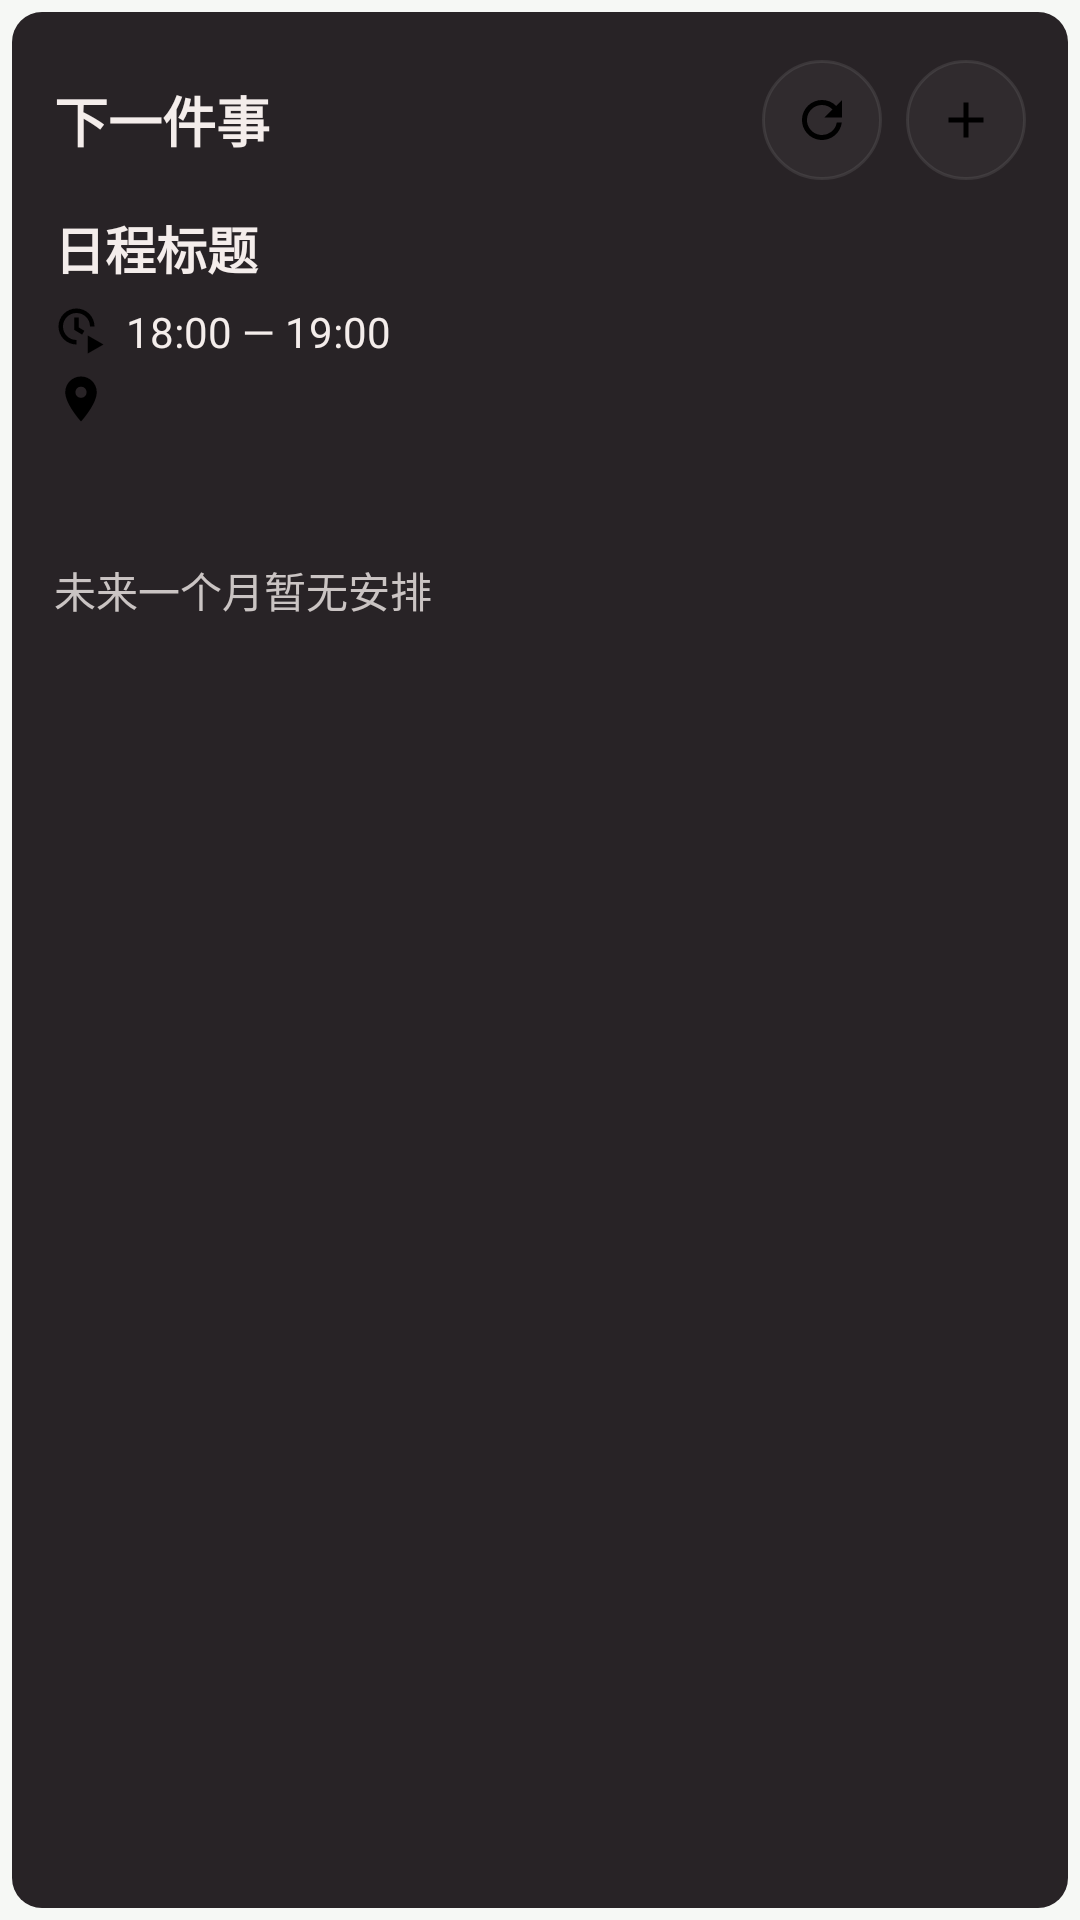

Named icons in this screenshot (1080px×1920px) and their bounding boxes, (x1, y1, x2, y2):
place: (65, 377, 97, 421)
time start: (59, 309, 103, 353)
刷新日程: (764, 62, 880, 178)
记录一件事: (908, 62, 1024, 178)
